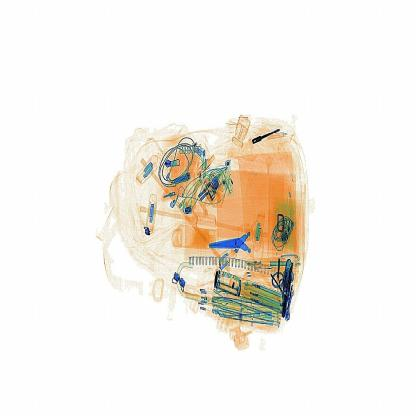gun: (203, 213, 273, 271)
